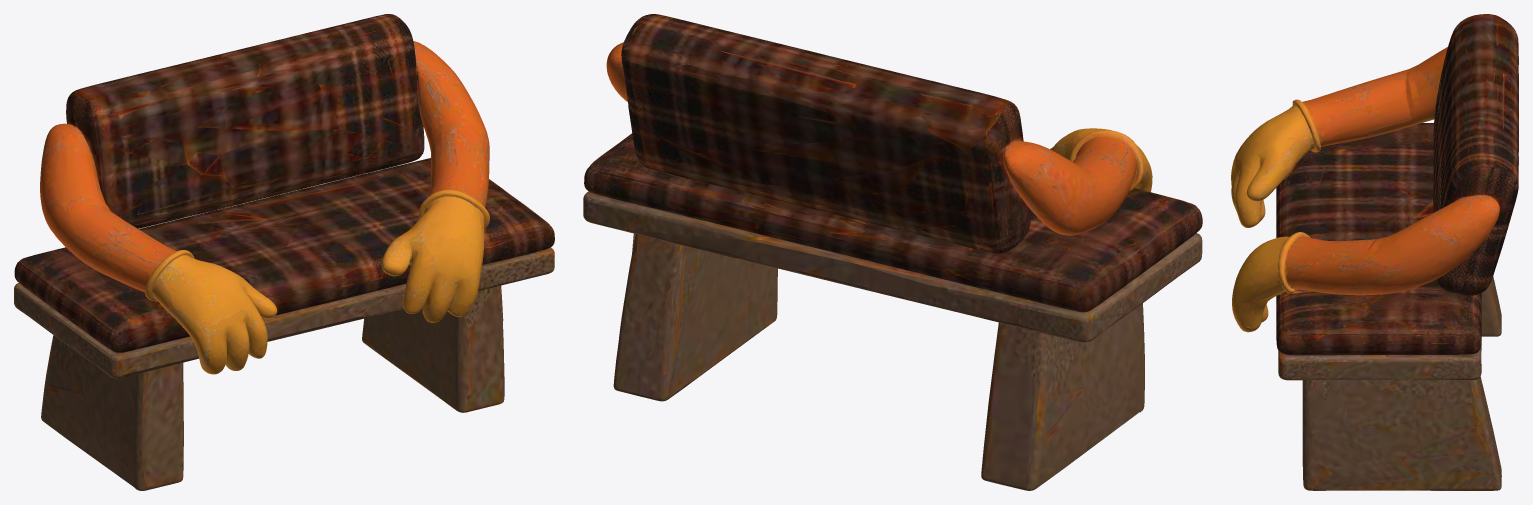
The model's file is busstop_bench.glb.
3 views of the same model, side by side, from view 1: azimuth 30°, elevation 25°; view 2: azimuth 150°, elevation 25°; view 3: azimuth 270°, elevation 25° (orthographic). The views are drawn at different scales.
Visible parts, largest first — view 1: Mesh_0; view 2: Mesh_0; view 3: Mesh_0.
Part boxes in pixels (x1=…): Mesh_0: x1=14, y1=14, x2=554, y2=490; Mesh_0: x1=583, y1=14, x2=1202, y2=490; Mesh_0: x1=1231, y1=14, x2=1518, y2=490.
Size of the model in its own units: 1.9 by 1.33 by 1.08.
1 material, 1 textured.
